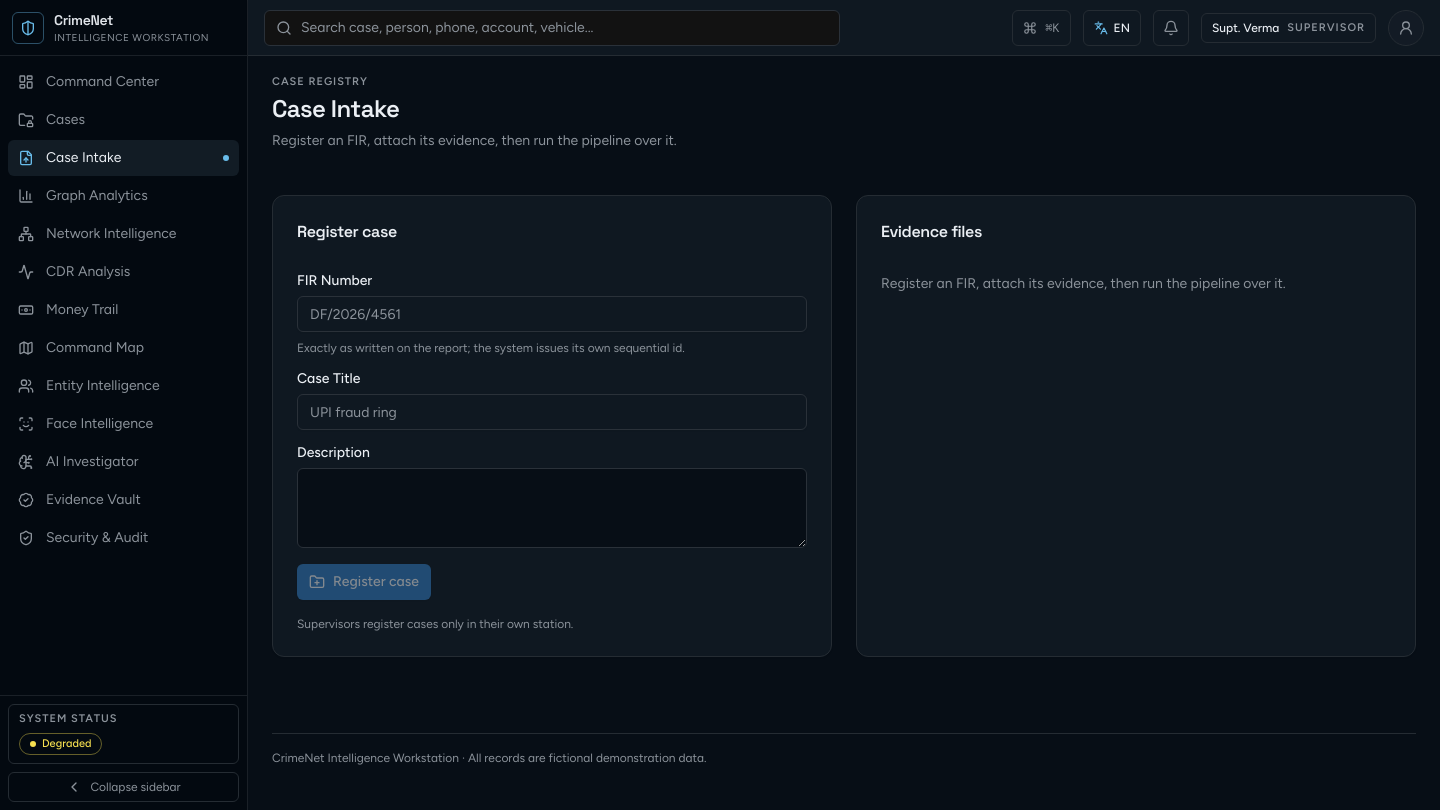
Test case: case intake › reports a failed registration instead of failing silently
Expected: the element with test id "intake.page" is shown, [272, 76, 1416, 657]
Expected: the button with test id "intake.register_button" is disabled, [297, 564, 431, 600]
Type "DF/2026/7778" into the field with test id "intake.fir_input" at (552, 314), box [297, 296, 807, 332]
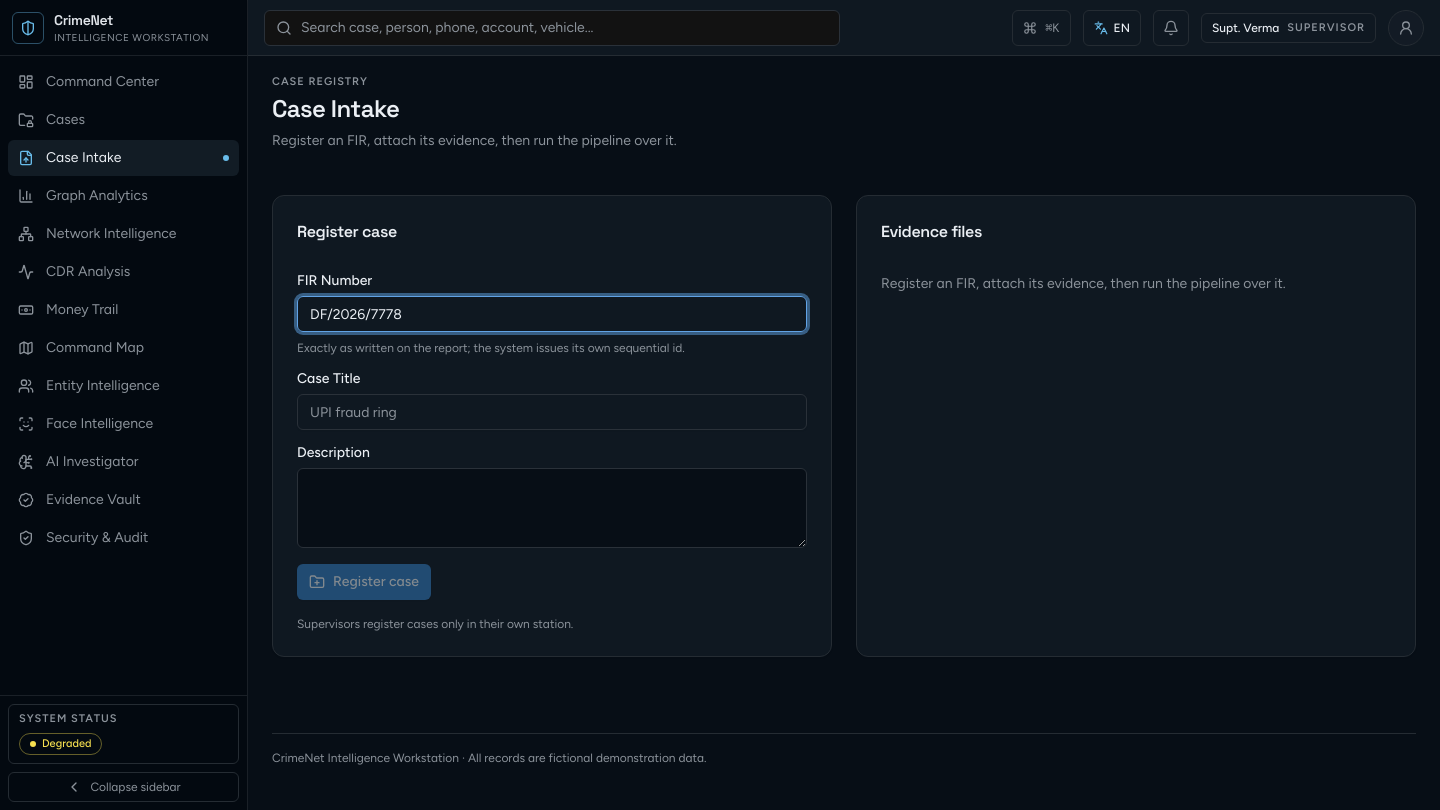
Type "ab" into the field with test id "intake.title_input" at (552, 412), box [297, 394, 807, 430]
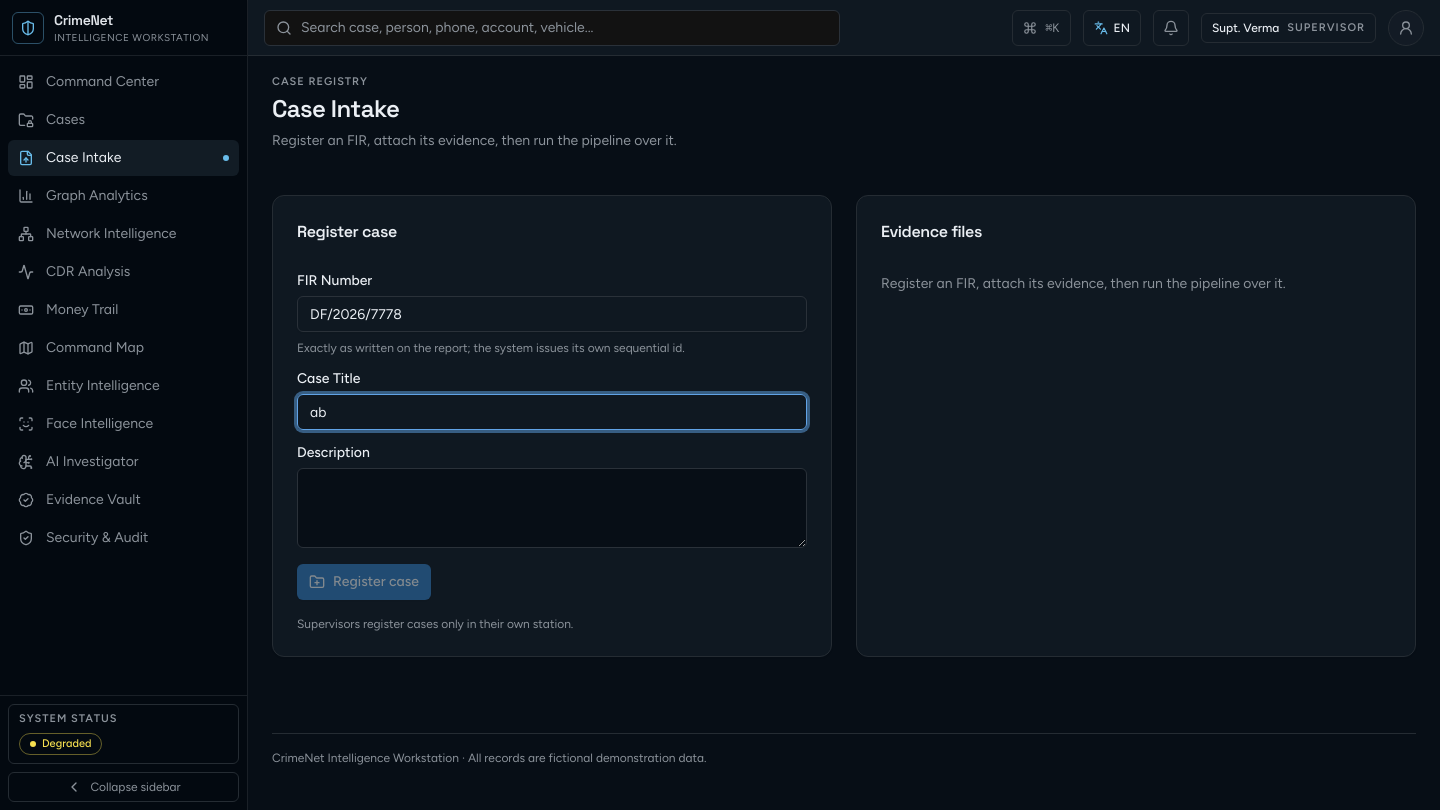
Expected: the button with test id "intake.register_button" is disabled, [297, 564, 431, 600]
Type "c" into the field with test id "intake.title_input" at (552, 412), box [297, 394, 807, 430]
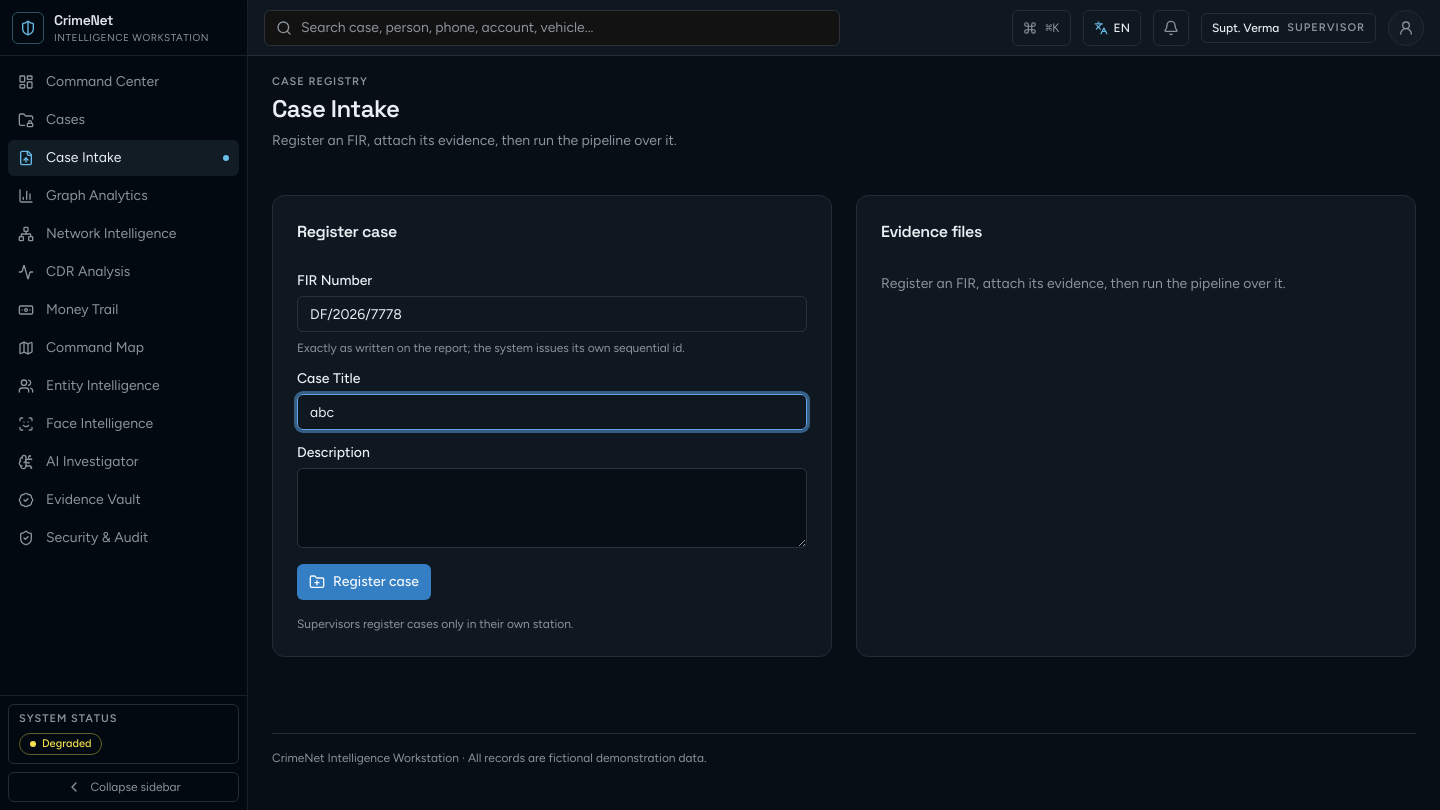
Result: the button with test id "intake.register_button" is enabled at [297, 564, 431, 600]
